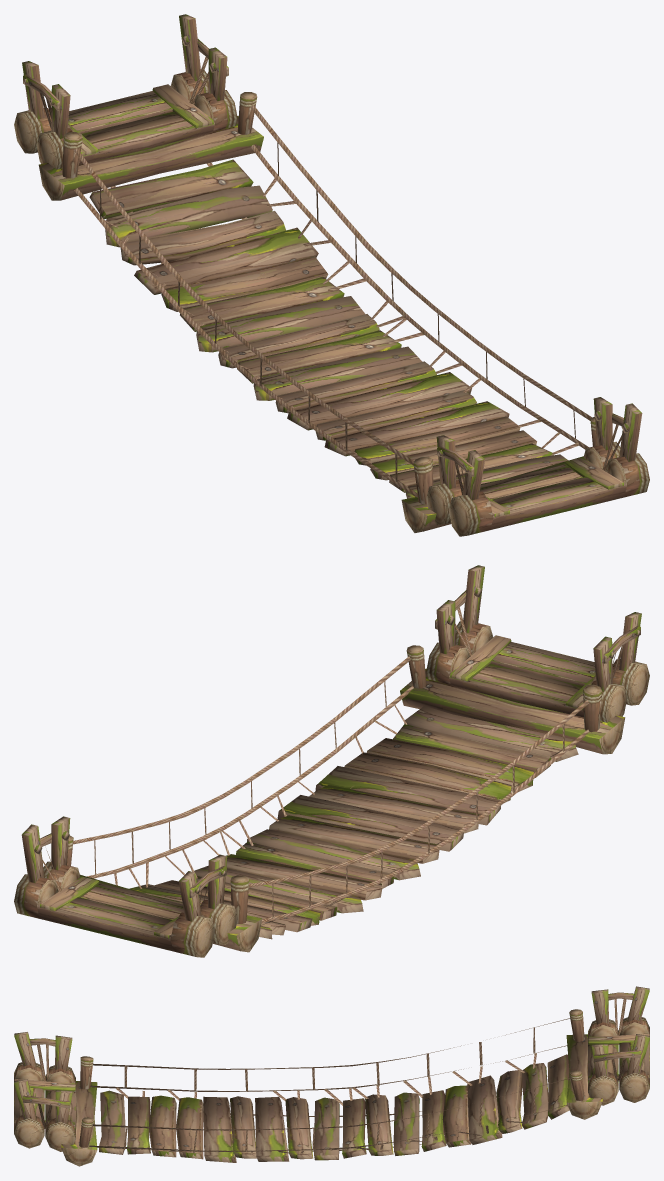
File: Map_08_bridge01.FBX
3 views of the same model, one above another, from view 1: azimuth 30°, elevation 25°; view 2: azimuth 150°, elevation 25°; view 3: azimuth 270°, elevation 25° (orthographic). The views are drawn at different scales.
Parts seen in each view (by area): view 1: Map_08_bridge01; view 2: Map_08_bridge01; view 3: Map_08_bridge01.
Boxes of the visible parts, bbox=[...] form: Map_08_bridge01: bbox=[14, 14, 649, 536]; Map_08_bridge01: bbox=[14, 565, 649, 957]; Map_08_bridge01: bbox=[14, 986, 649, 1166].
Size of the model in its own units: 185 by 733 by 161.
1 material, 1 textured.
